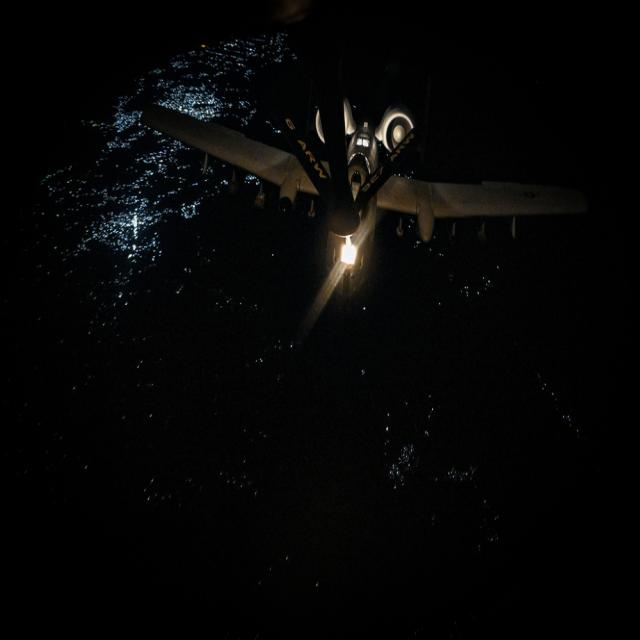MIL_Plane: (140, 54, 592, 311)
